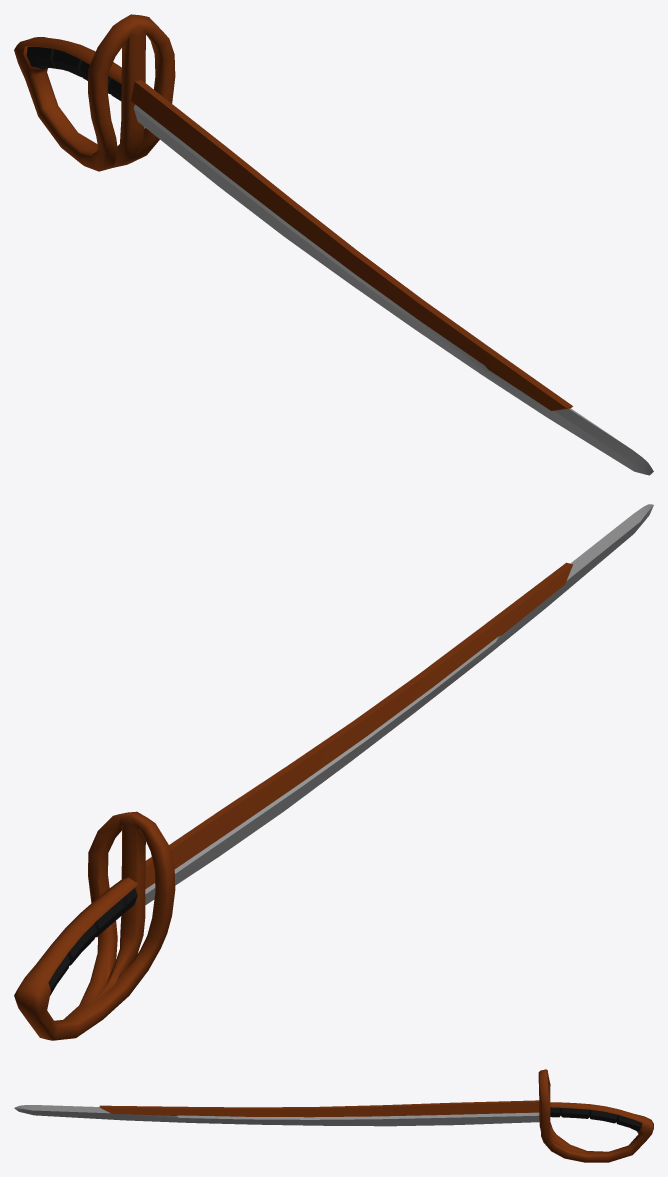
The model's file is Mesh_Sabre_Fancy.FBX.
3 views of the same model, one above another, from view 1: azimuth 30°, elevation 25°; view 2: azimuth 150°, elevation 25°; view 3: azimuth 270°, elevation 25° (orthographic). The views are drawn at different scales.
Visible parts, largest first — view 1: SabreFanc; view 2: SabreFanc; view 3: SabreFanc.
Boxes of the visible parts, <box> form: SabreFanc: <box>14,14,653,475</box>; SabreFanc: <box>14,504,653,1040</box>; SabreFanc: <box>14,1069,653,1162</box>.
Bounding box in the file's own units: 1.93 × 4.06 × 25.9.
